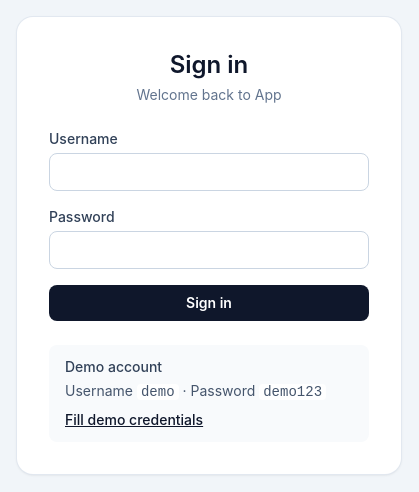
Test: LoginView › fills in the demo credentials
Click the button "Fill demo credentials" at (134, 420), box [65,410,203,430]
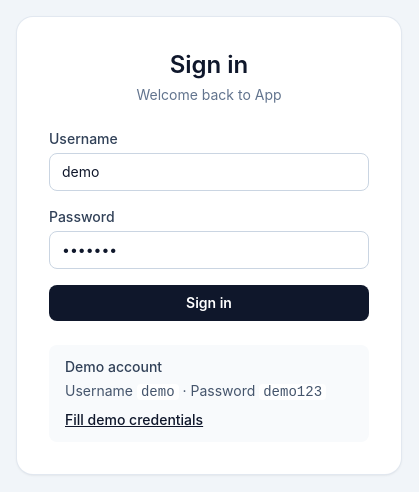
Now the field with id "username" holds "demo", box [49,152,369,190]
Now the password field labelled "Password" holds "demo123", box [49,230,369,268]
